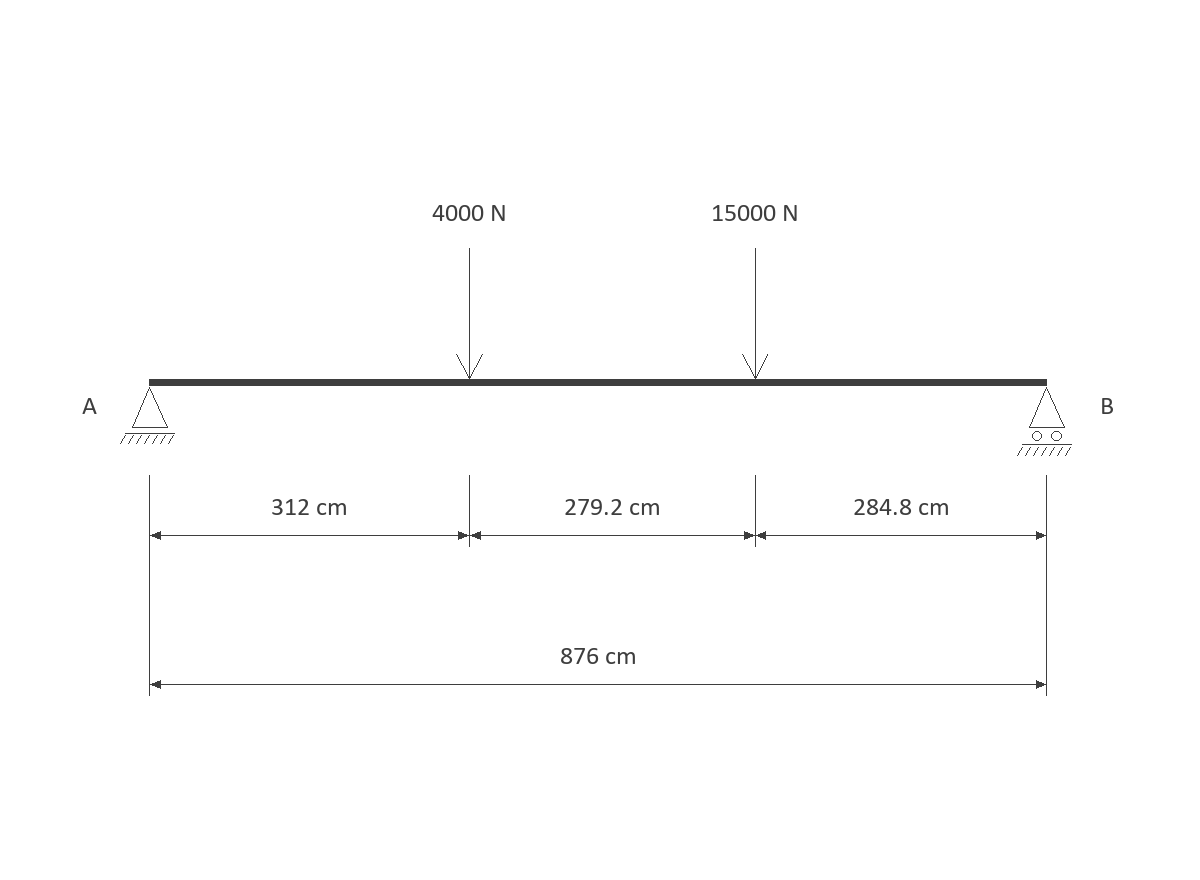pin_support: (120, 387, 175, 444)
point_load: (456, 248, 483, 379), (742, 248, 768, 379)
roller_support: (1017, 387, 1072, 456)
